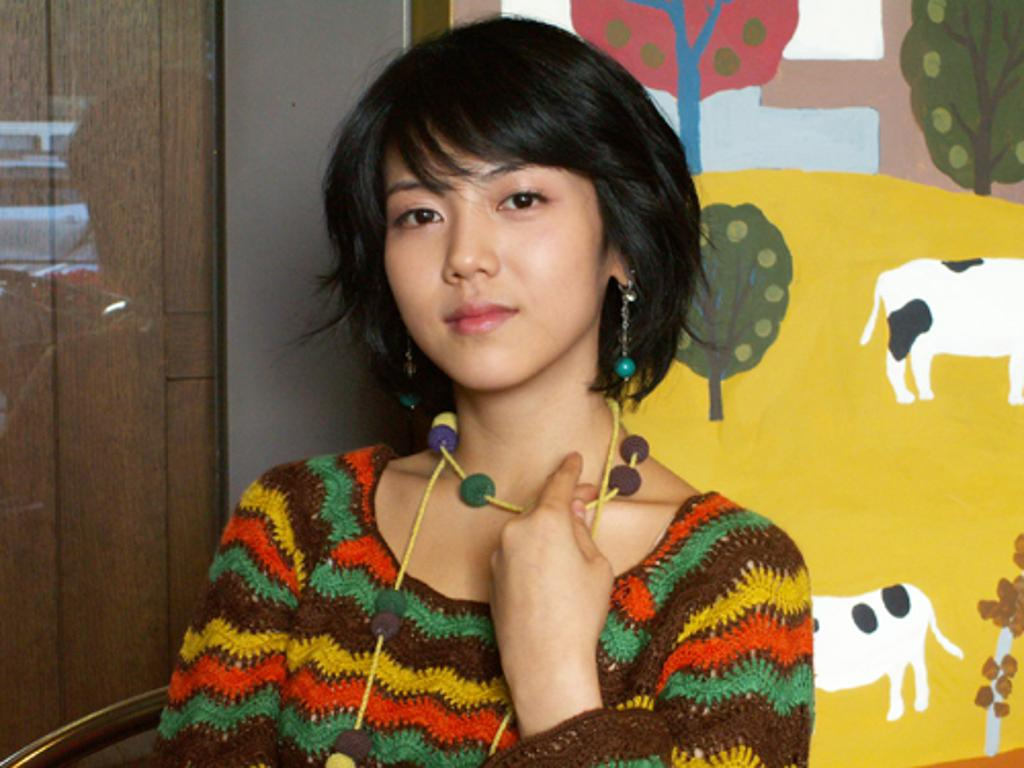face: (388, 104, 604, 388)
